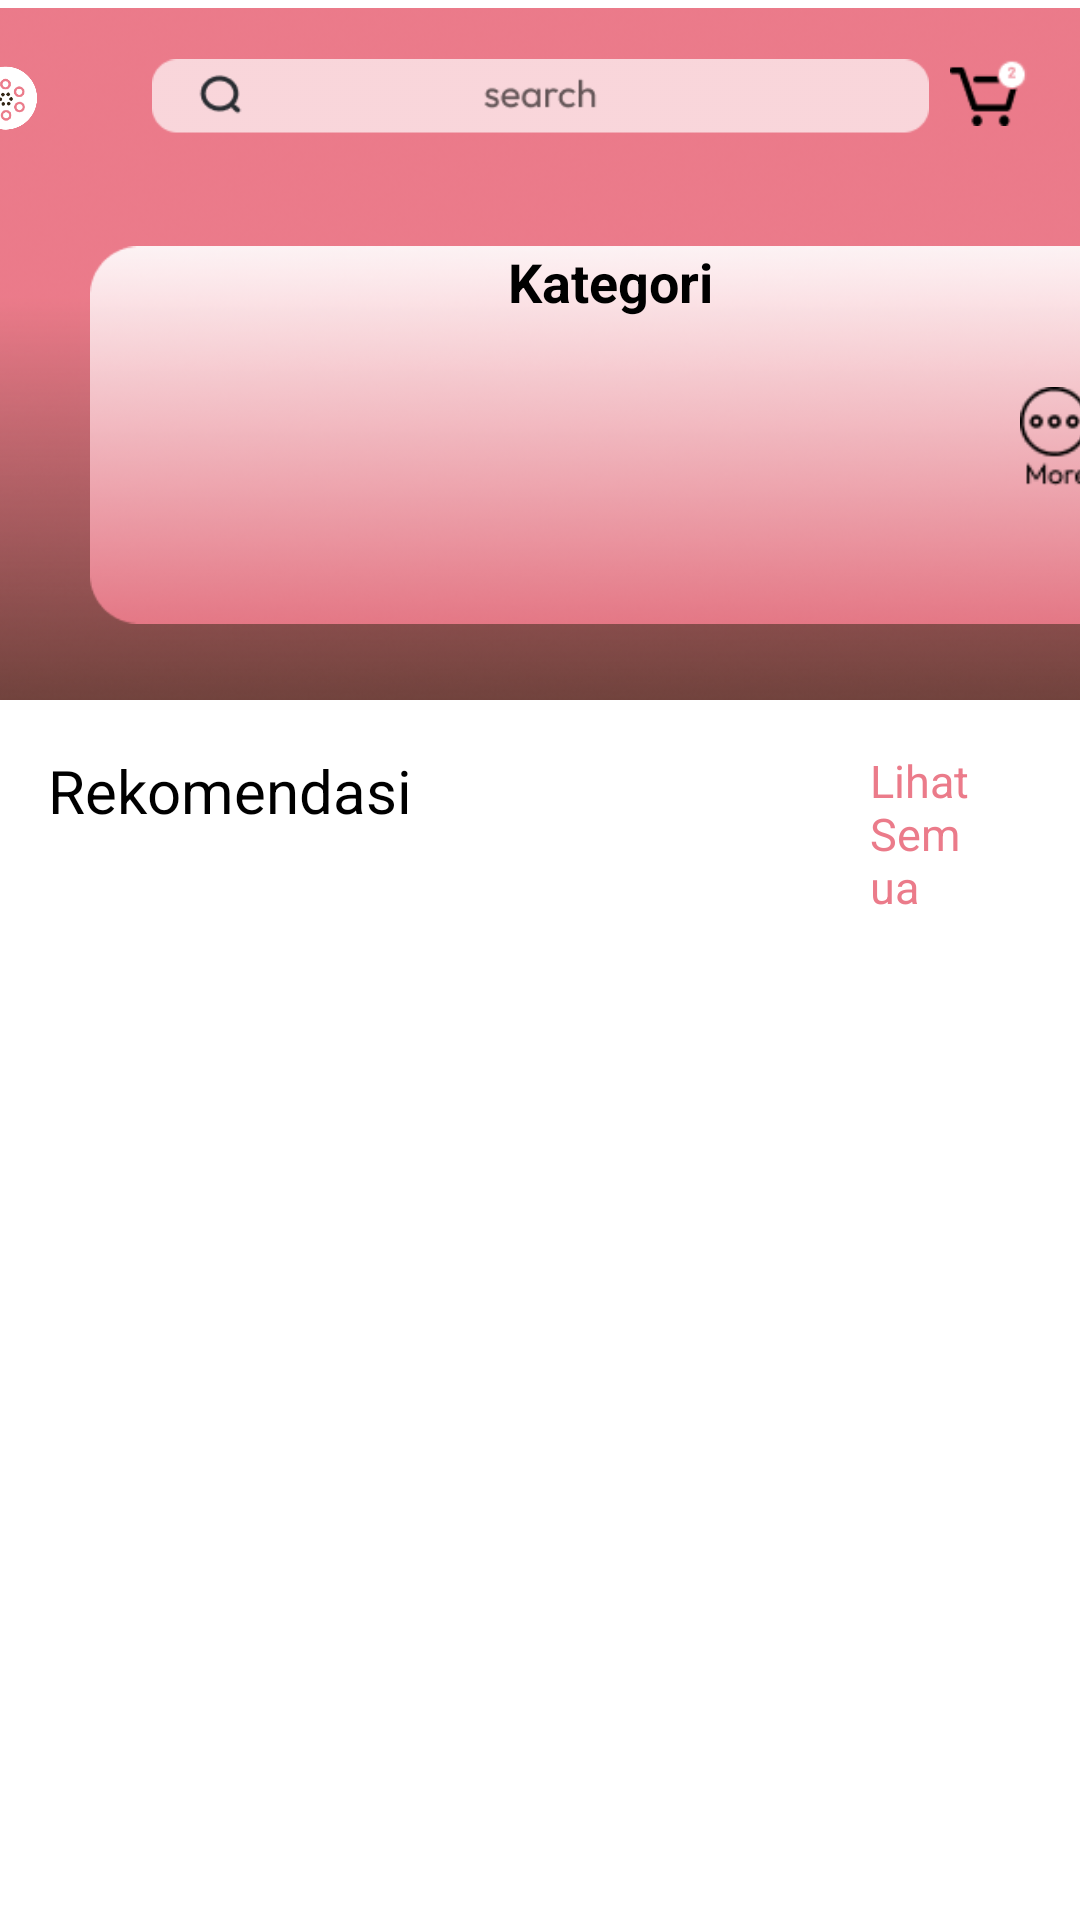

Icons on this 1080 × 1920 Android screen, each with the point to tap as (x,y):
fix cart: (987,93)
